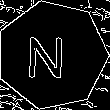N_N: (32, 30, 73, 81)
